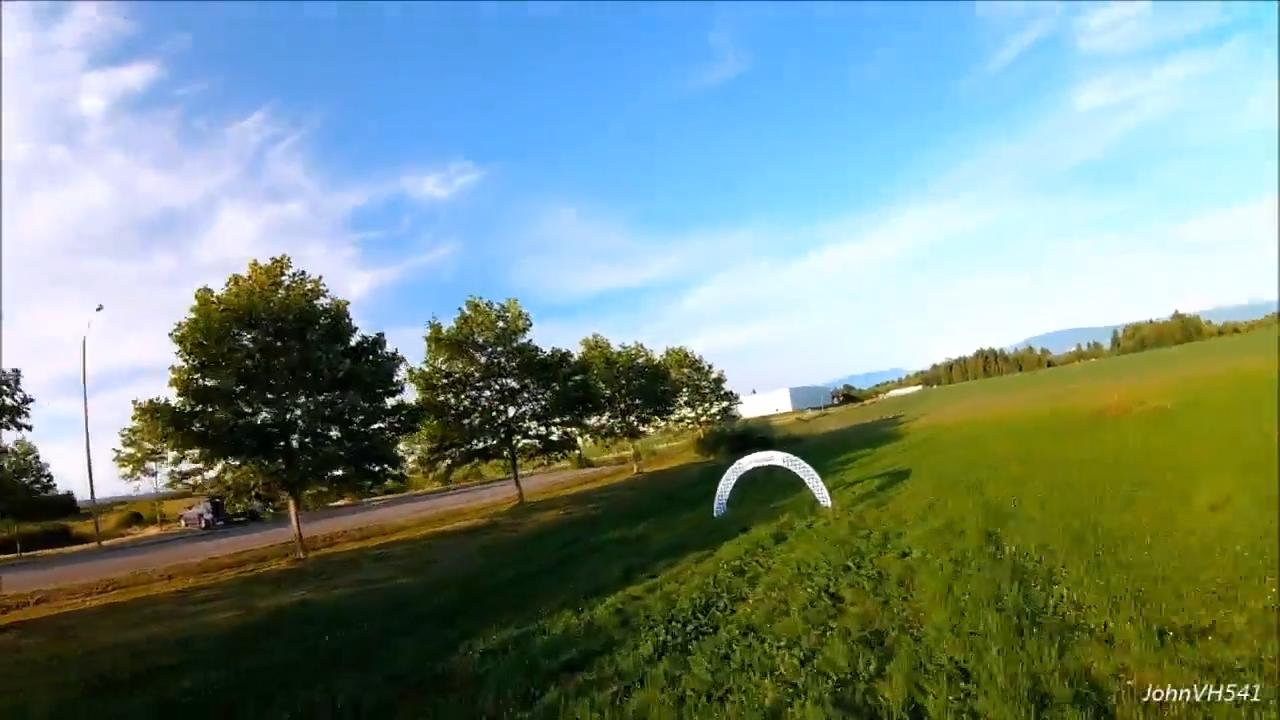gate: (713, 449, 837, 514)
